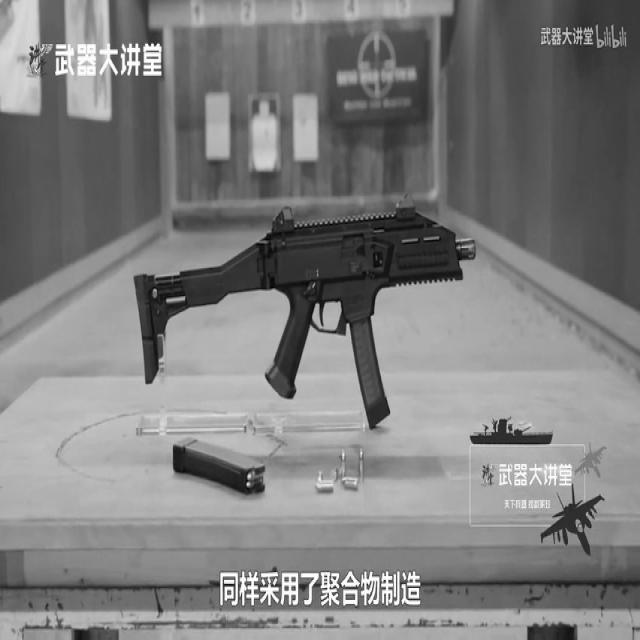Sub-machine-gun: (124, 176, 496, 442)
